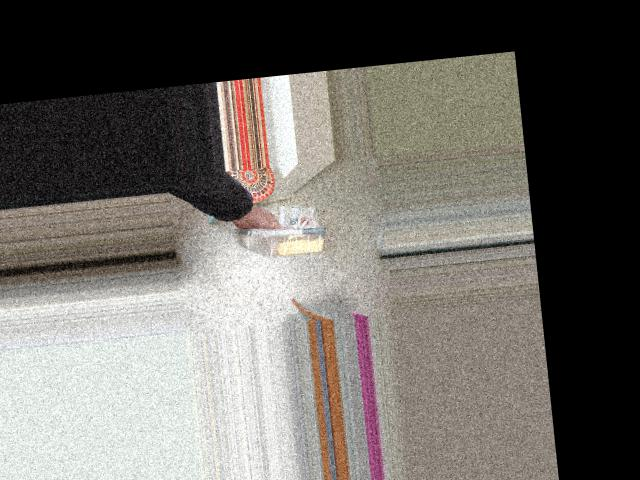cheese: (238, 202, 330, 270)
